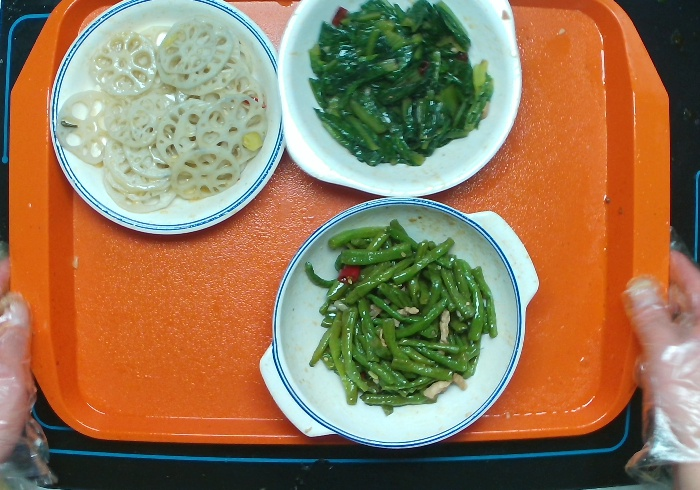HZYJPL-Dai_Er_Bai_Yuan_Wan: (272, 1, 549, 203)
HZYJPL-Lan_Bian_Dai_Er_Wan: (247, 186, 542, 459)
HZYJPL-Lan_Bian_Yuan_Die: (31, 1, 302, 240)
